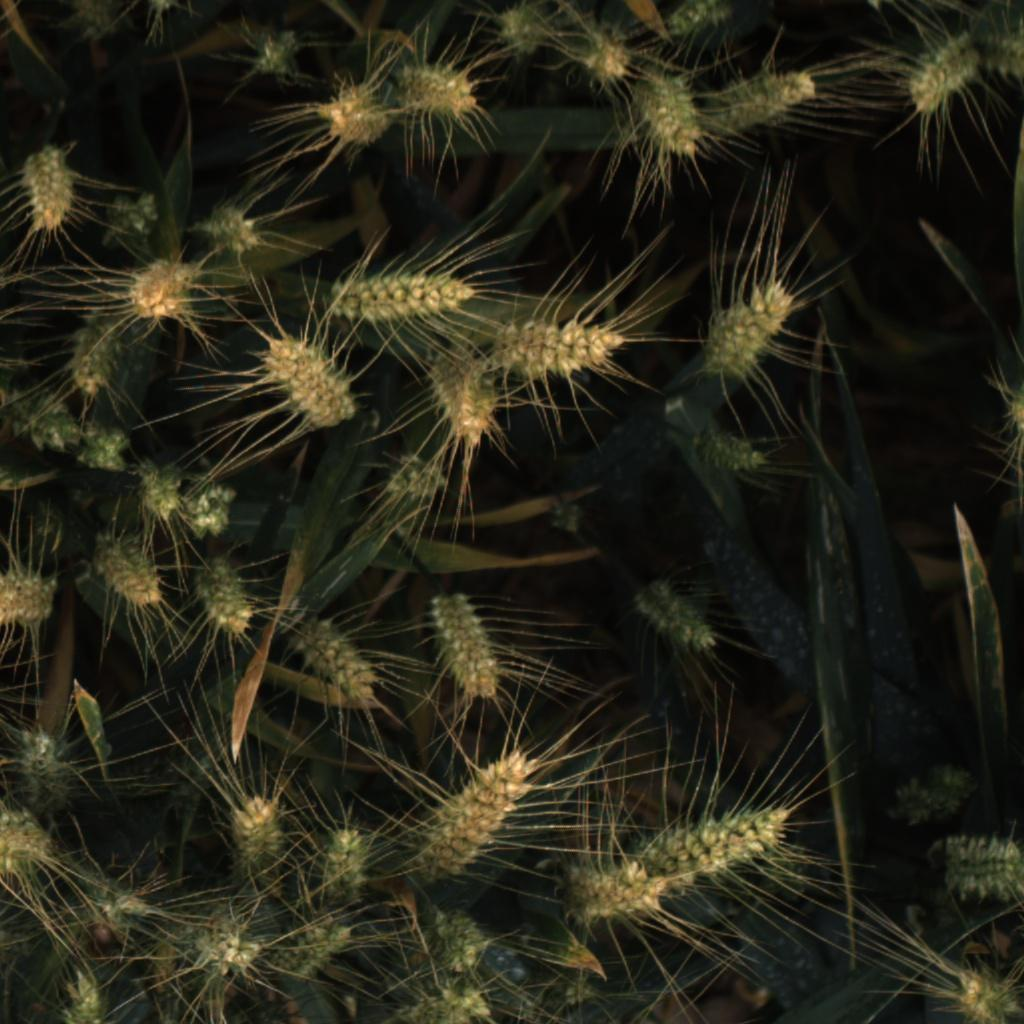0-0: (422, 745, 538, 876), (647, 796, 806, 884), (329, 260, 480, 329), (499, 306, 632, 382), (258, 330, 358, 431), (710, 275, 801, 378), (425, 592, 506, 706), (628, 575, 723, 665), (296, 622, 393, 706), (564, 851, 668, 928), (718, 59, 821, 135), (371, 56, 483, 124), (925, 829, 1024, 905), (886, 760, 982, 837), (896, 32, 981, 117), (222, 783, 298, 878), (82, 528, 170, 610), (629, 62, 703, 159), (430, 344, 496, 450), (273, 910, 367, 980), (141, 887, 199, 999), (7, 727, 80, 813), (2, 494, 71, 582), (15, 141, 79, 233), (186, 905, 264, 979), (126, 257, 211, 324), (310, 819, 377, 904), (4, 387, 83, 459), (193, 552, 258, 638), (315, 79, 388, 154), (415, 907, 493, 977), (91, 183, 166, 254), (63, 317, 128, 396), (74, 867, 154, 930), (189, 197, 268, 257), (0, 562, 61, 636), (483, 978, 580, 1024), (396, 979, 495, 1024), (521, 969, 612, 1015), (0, 807, 55, 883), (135, 451, 193, 523), (380, 443, 447, 505), (491, 0, 554, 65), (701, 425, 772, 480), (183, 477, 244, 541), (242, 22, 303, 85), (51, 963, 112, 1024), (75, 419, 138, 477), (577, 23, 632, 87), (471, 935, 534, 990), (663, 0, 732, 45), (63, 1, 127, 44), (0, 906, 42, 968), (541, 487, 591, 537), (986, 26, 1024, 85), (997, 367, 1024, 440), (70, 478, 107, 516)
